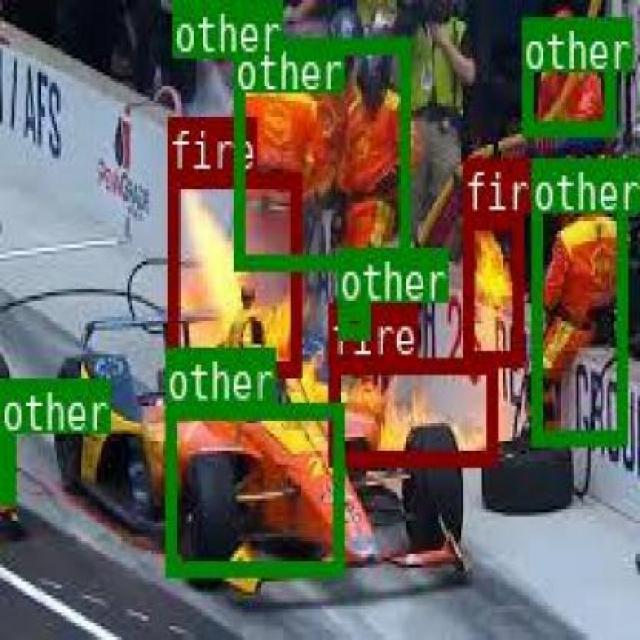Fire: (166, 172, 299, 374), (326, 354, 494, 462), (460, 210, 522, 364)
